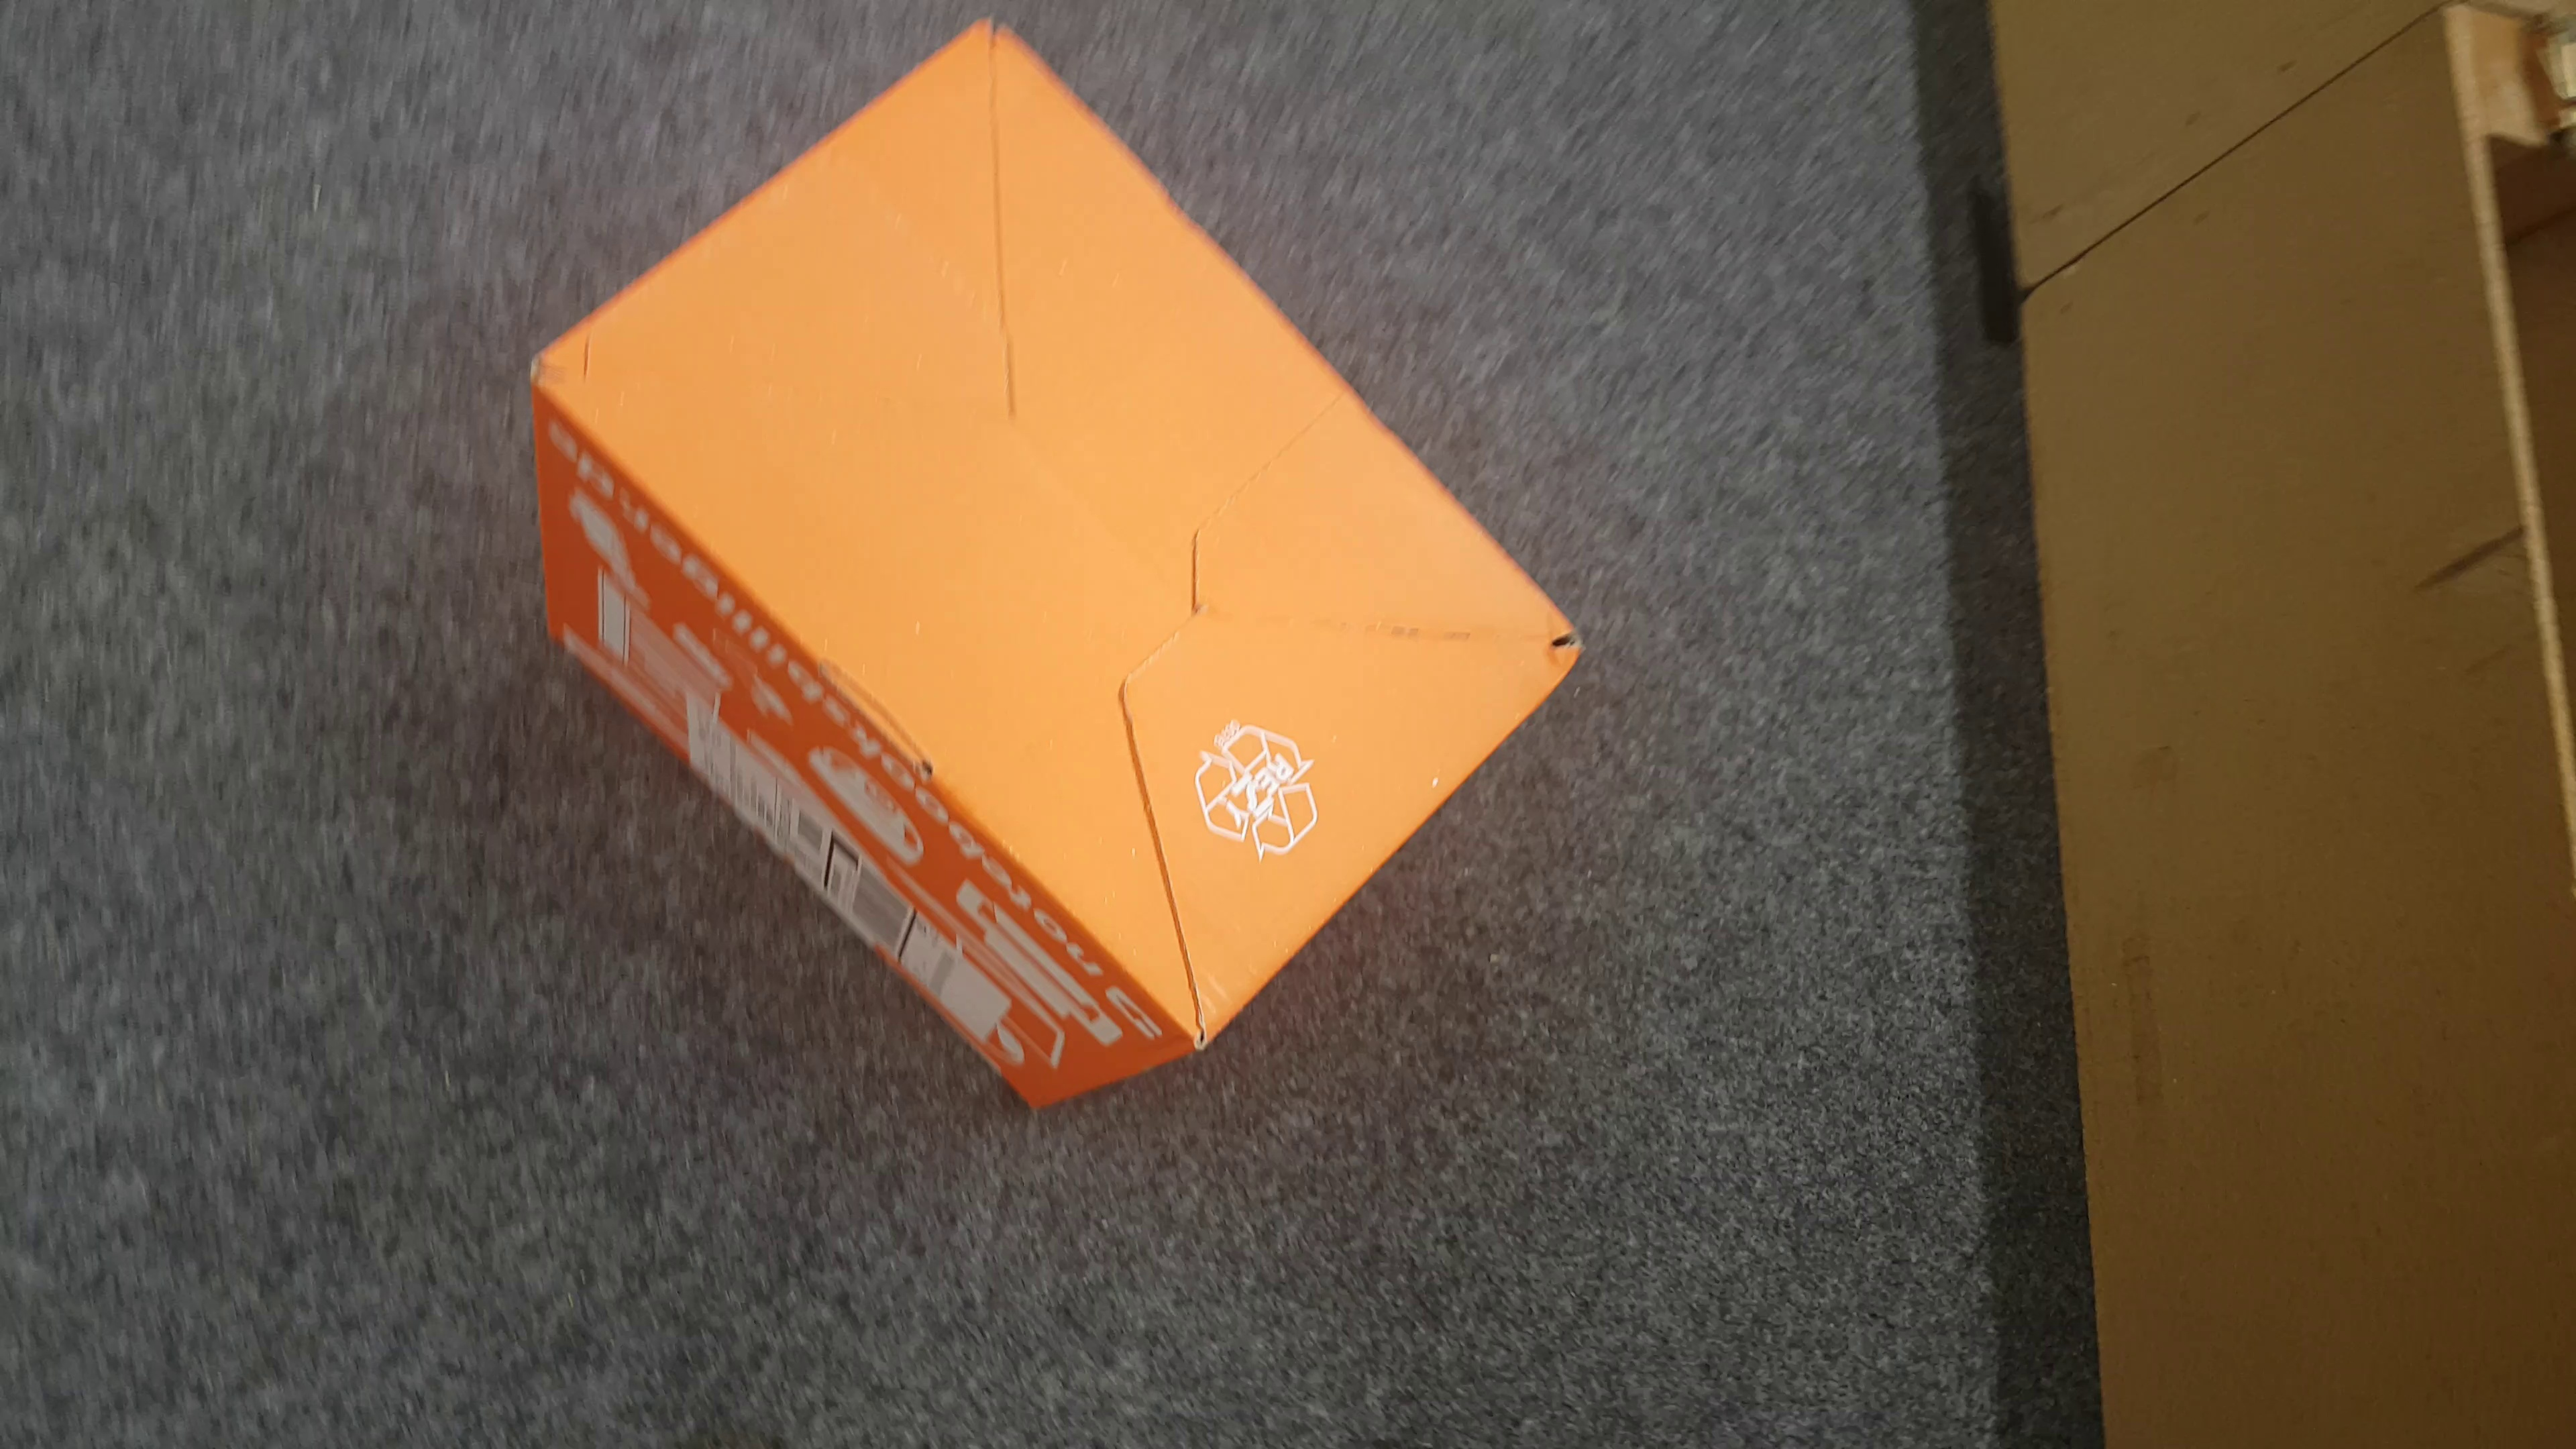push: (524, 18, 1598, 1102)
